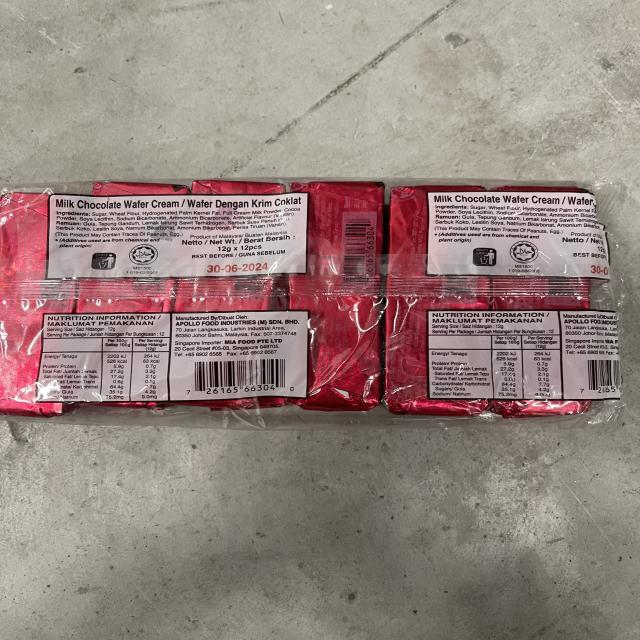object_name: (6, 189, 633, 422)
